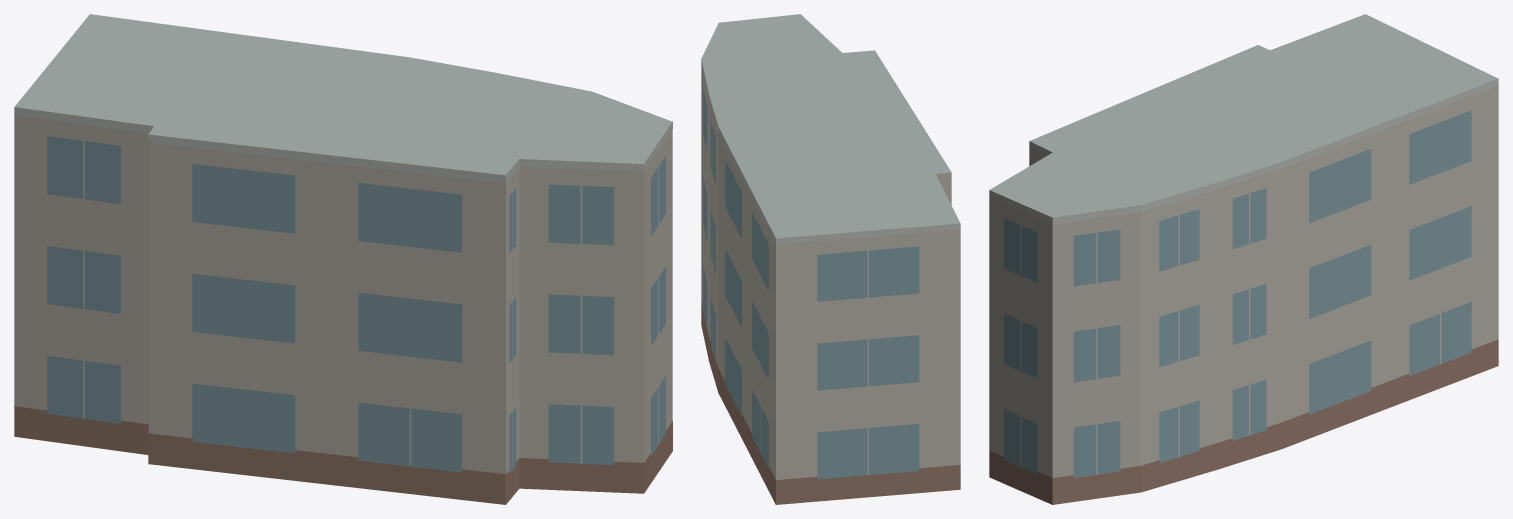
File: survey-upis-32675494.glb
3 views of the same model, side by side, from view 1: azimuth 30°, elevation 25°; view 2: azimuth 150°, elevation 25°; view 3: azimuth 270°, elevation 25° (orthographic). The views are drawn at different scales.
Parts seen in each view (by area): view 1: survey-upis-32675494.tmp; view 2: survey-upis-32675494.tmp; view 3: survey-upis-32675494.tmp.
Boxes of the visible parts, <box> form: survey-upis-32675494.tmp: <box>14,14,672,504</box>; survey-upis-32675494.tmp: <box>701,14,960,504</box>; survey-upis-32675494.tmp: <box>989,14,1498,504</box>.
Size of the model in its own units: 15.52 by 10.2 by 16.4.
